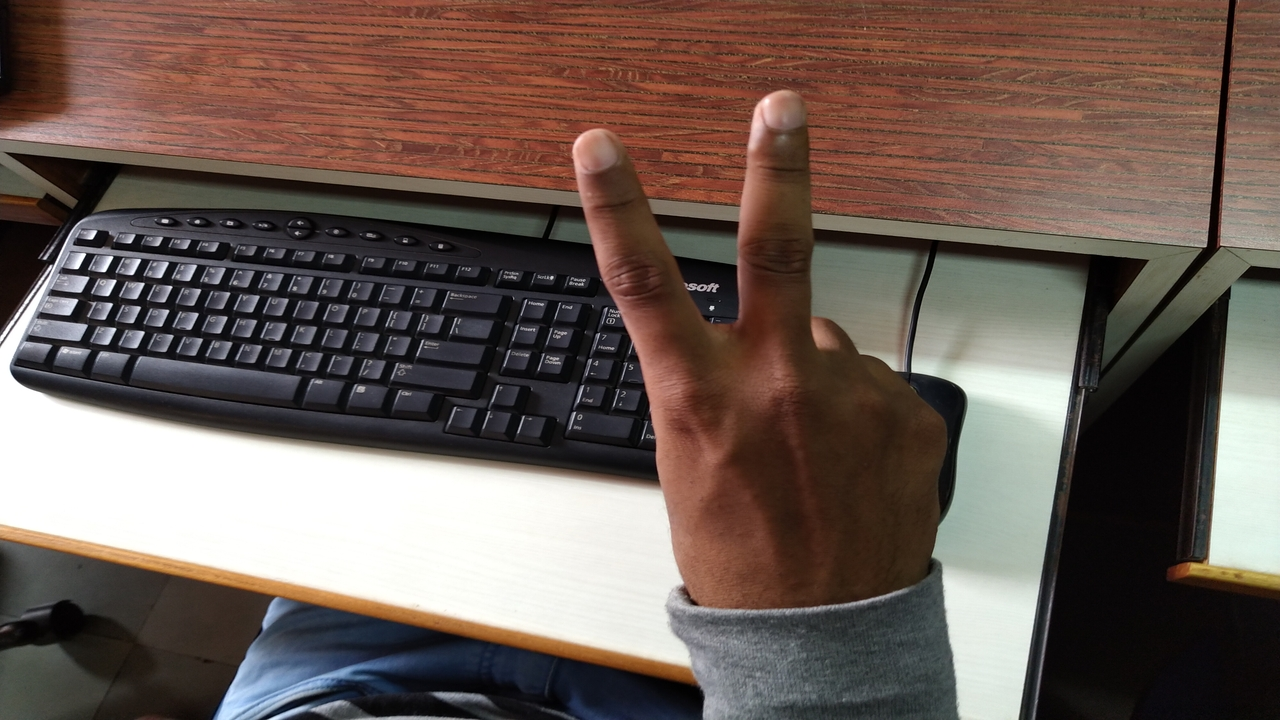fingertip: (746, 84, 816, 142), (562, 126, 632, 182)
